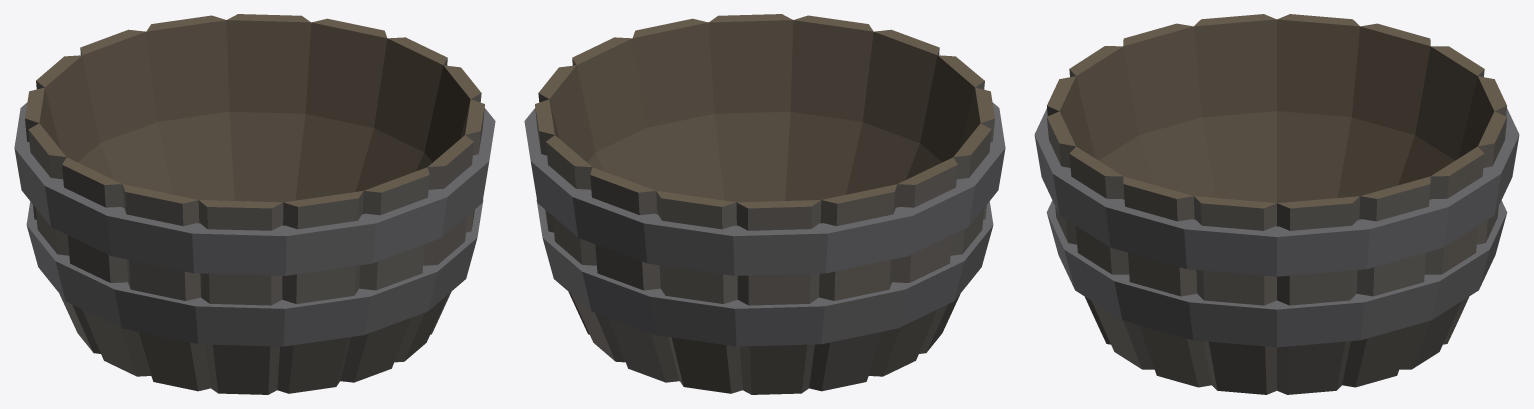
The model's file is SM_Prop_Barrel_Half_01.glb.
3 renders of one model, left to right at view 1: azimuth 30°, elevation 25°; view 2: azimuth 150°, elevation 25°; view 3: azimuth 270°, elevation 25°, orthographic.
Parts seen in each view (by area): view 1: SM_Prop_Barrel_Half_01_part00; view 2: SM_Prop_Barrel_Half_01_part00; view 3: SM_Prop_Barrel_Half_01_part00.
Part boxes in pixels (left/top/right/bottom): SM_Prop_Barrel_Half_01_part00: left=14, top=14, right=495, bottom=394; SM_Prop_Barrel_Half_01_part00: left=524, top=14, right=1005, bottom=394; SM_Prop_Barrel_Half_01_part00: left=1034, top=14, right=1519, bottom=394.
Size of the model in its own units: 0.8583 by 0.4051 by 0.8583.
Materials: 1 (1 with a texture image).
